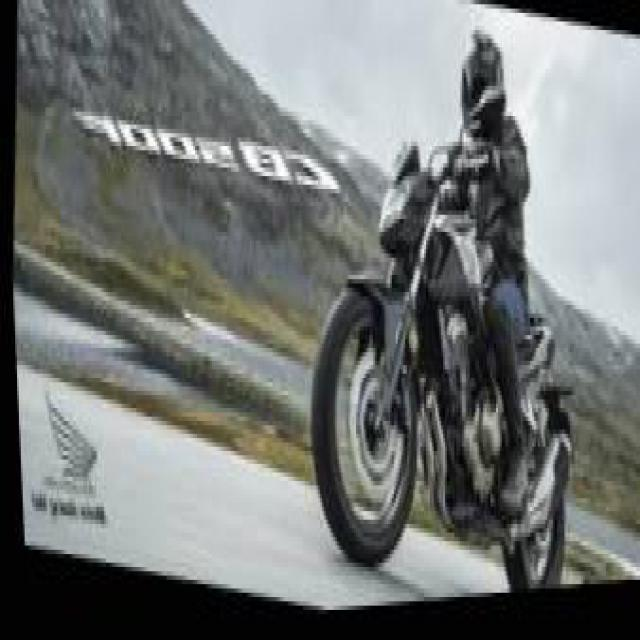CB500F: (288, 101, 591, 612)
